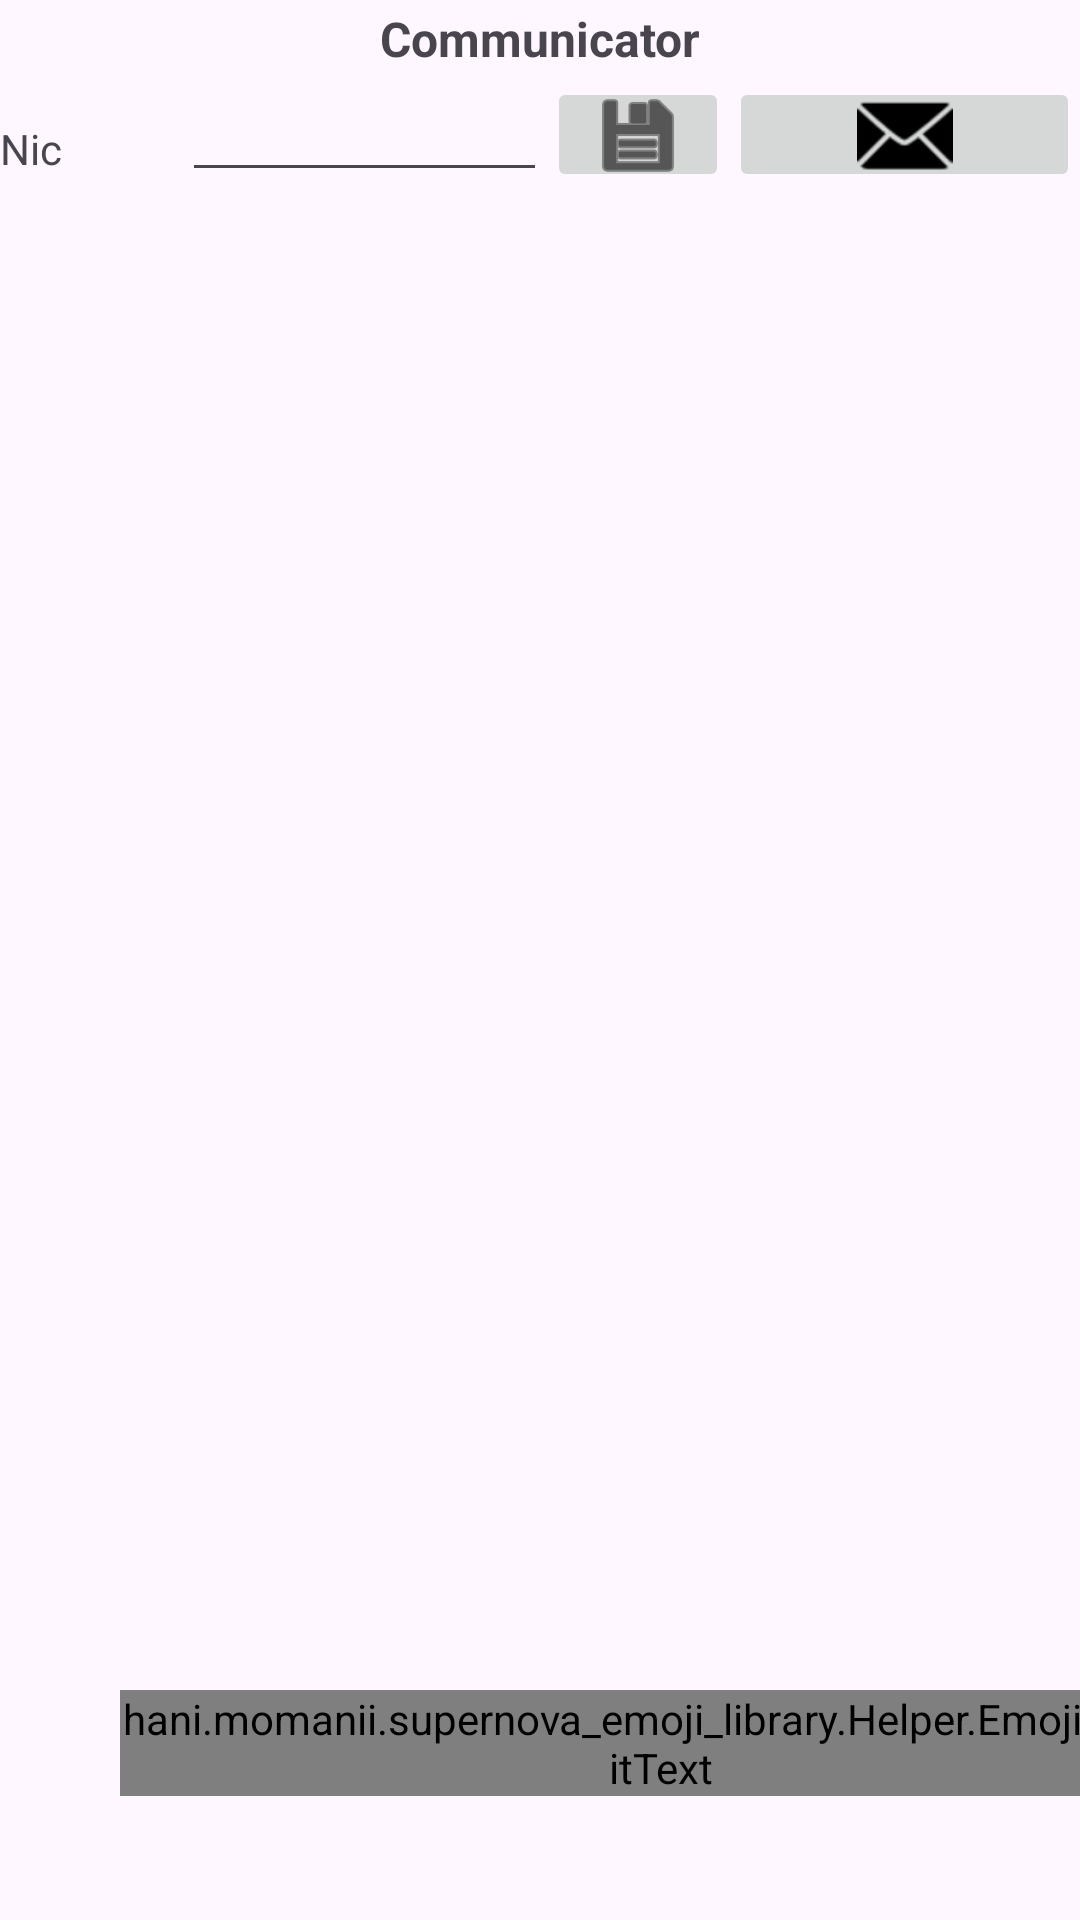

Where icons sit on this 1080w x 1920h app screen, as (x1, y1, x2, y2):
email: (741, 95, 1068, 174)
save: (559, 95, 717, 174)
